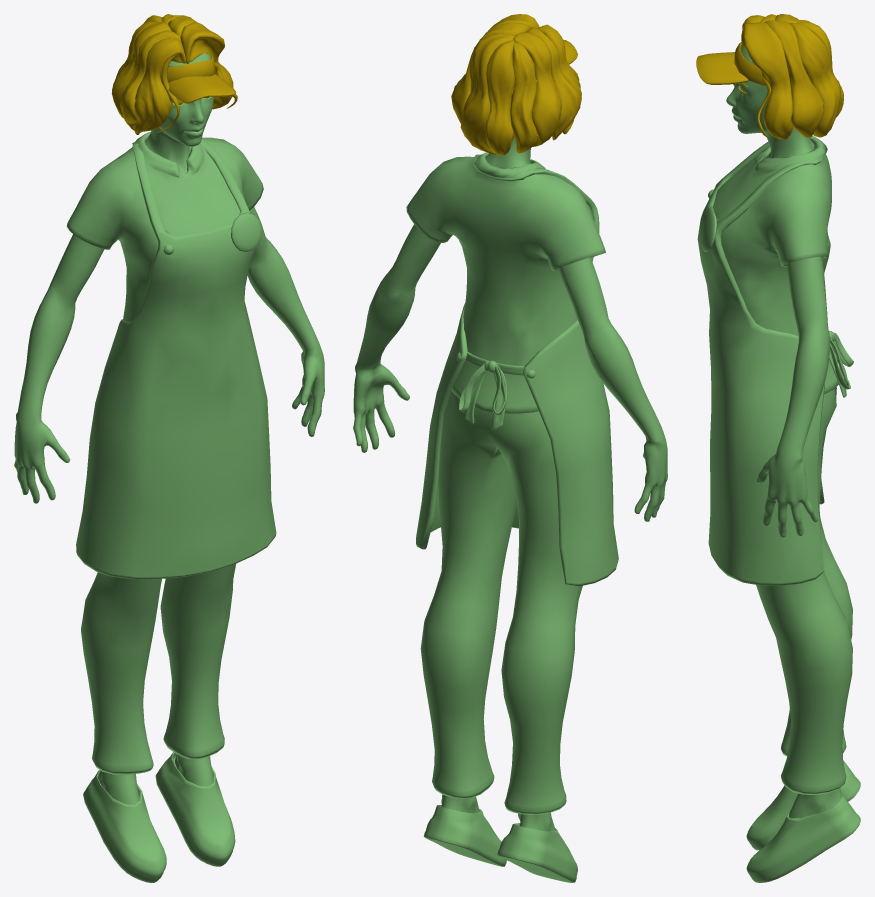
Rendered from Barista_female.fbx.
The picture shows the model from 3 angles, left to right: view 1: azimuth 30°, elevation 25°; view 2: azimuth 150°, elevation 25°; view 3: azimuth 270°, elevation 25°; orthographic projection.
Parts seen in each view (by area): view 1: apron, pants, female_cafe_low, cloth, shoes, hair1, hair8, hat3, hair2, hair3, brooch, hat4; view 2: pants, cloth, apron, female_cafe_low, shoes, hair5, hair6, hair3, hair4, knot2, hair2, hair7 (+1 smaller); view 3: apron, pants, cloth, female_cafe_low, shoes, hair8, hair7, hair6, hat3, knot2, hat4, hair5 (+1 smaller).
Boxes of the visible parts, left/top/right/bottom form: apron: left=76, top=138, right=276, bottom=579; pants: left=81, top=564, right=235, bottom=774; female_cafe_low: left=14, top=52, right=324, bottom=804; cloth: left=66, top=131, right=263, bottom=321; shoes: left=83, top=752, right=235, bottom=882; hair1: left=134, top=37, right=185, bottom=134; hair8: left=180, top=22, right=233, bottom=109; hat3: left=168, top=74, right=236, bottom=103; hair2: left=120, top=30, right=181, bottom=130; hair3: left=111, top=21, right=171, bottom=118; brooch: left=231, top=212, right=261, bottom=252; hat4: left=160, top=56, right=215, bottom=83; pants: left=420, top=391, right=582, bottom=814; cloth: left=406, top=152, right=605, bottom=413; apron: left=416, top=154, right=618, bottom=586; female_cafe_low: left=353, top=136, right=667, bottom=831; shoes: left=423, top=805, right=577, bottom=882; hair5: left=486, top=40, right=514, bottom=155; hair6: left=460, top=33, right=514, bottom=154; hair3: left=513, top=32, right=561, bottom=146; hair4: left=510, top=42, right=537, bottom=153; knot2: left=459, top=363, right=507, bottom=429; hair2: left=526, top=27, right=581, bottom=140; hair7: left=451, top=22, right=529, bottom=123; apron: left=697, top=136, right=824, bottom=585; pants: left=756, top=387, right=852, bottom=794; cloth: left=713, top=136, right=839, bottom=394; female_cafe_low: left=726, top=45, right=842, bottom=818; shoes: left=746, top=760, right=860, bottom=882; hair8: left=741, top=22, right=792, bottom=139; hair7: left=764, top=20, right=823, bottom=137; hair6: left=790, top=23, right=840, bottom=137; hat3: left=696, top=52, right=748, bottom=84; knot2: left=829, top=332, right=853, bottom=397; hat4: left=734, top=42, right=810, bottom=85; hair5: left=797, top=22, right=843, bottom=117.
Size of the model in its own units: 76.76 by 204 by 35.98.
